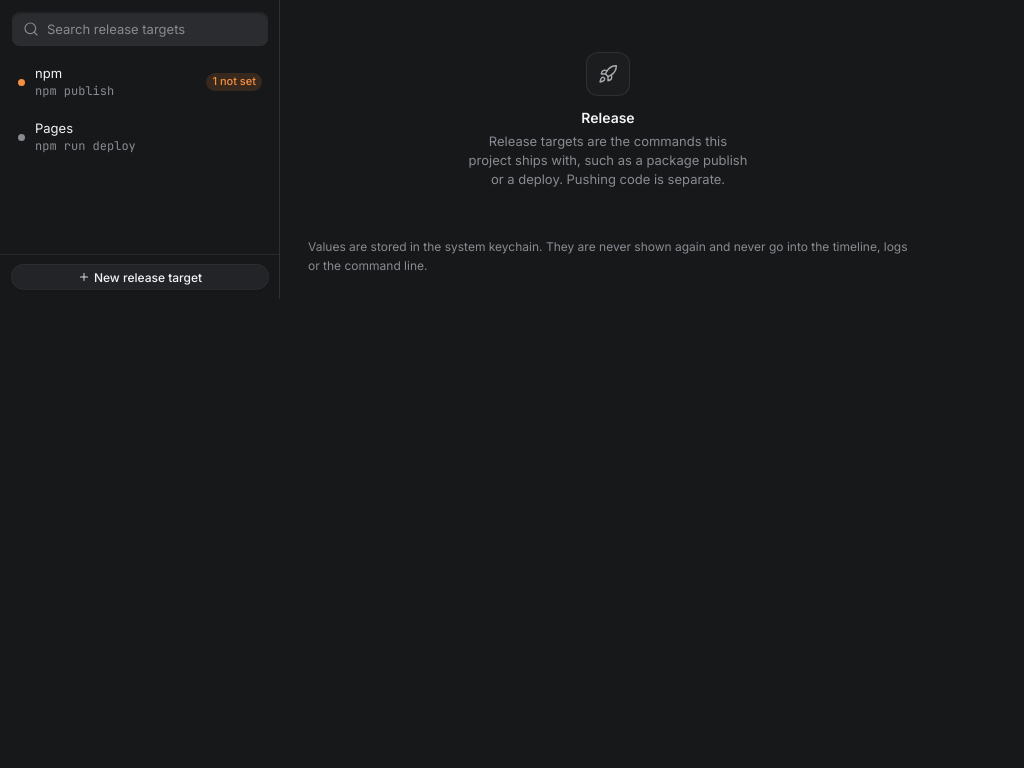
Scenario: 凭据录入 / 替换 / 移除 › 删除发布目标：同样先确认（首焦取消），确认后离开列表
What coordinates should you click on to do the following:
click the option "Pages npm run deploy"
I would click on:
 (54, 128)
Its box is left=8, top=110, right=272, bottom=164.
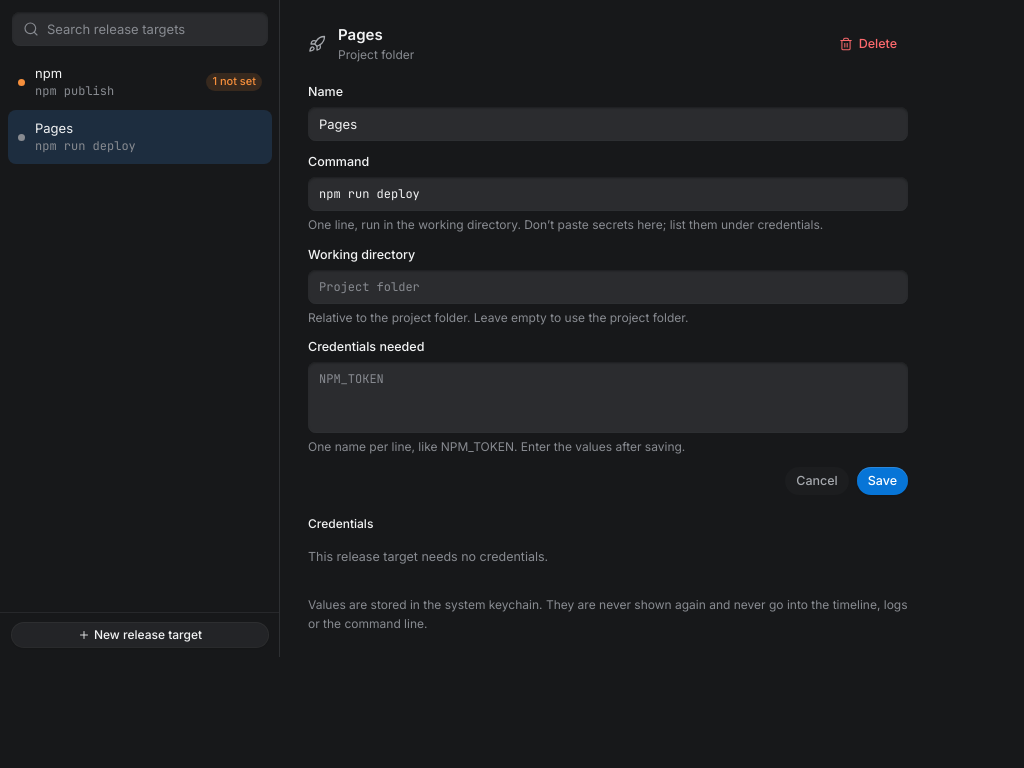
What coordinates should you click on to do the following:
click the button "Delete"
I would click on:
 (868, 44)
Its box is left=828, top=30, right=908, bottom=58.
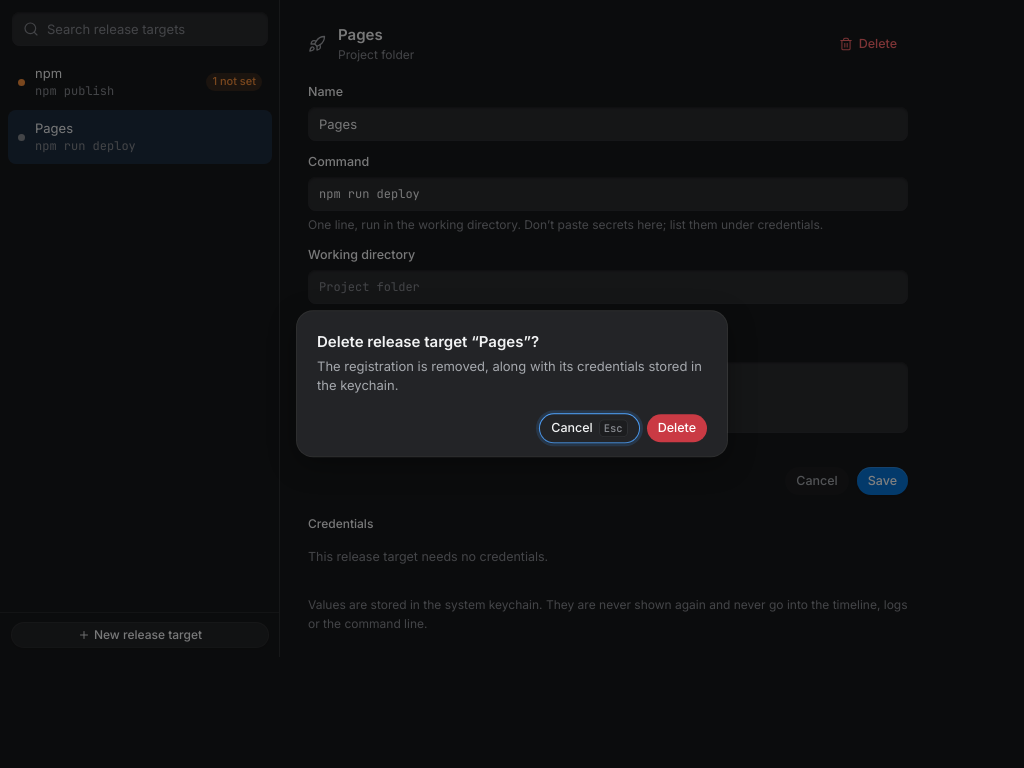
What coordinates should you click on to do the following:
click the button "Delete"
I would click on:
 (677, 429)
Its box is left=647, top=415, right=707, bottom=443.
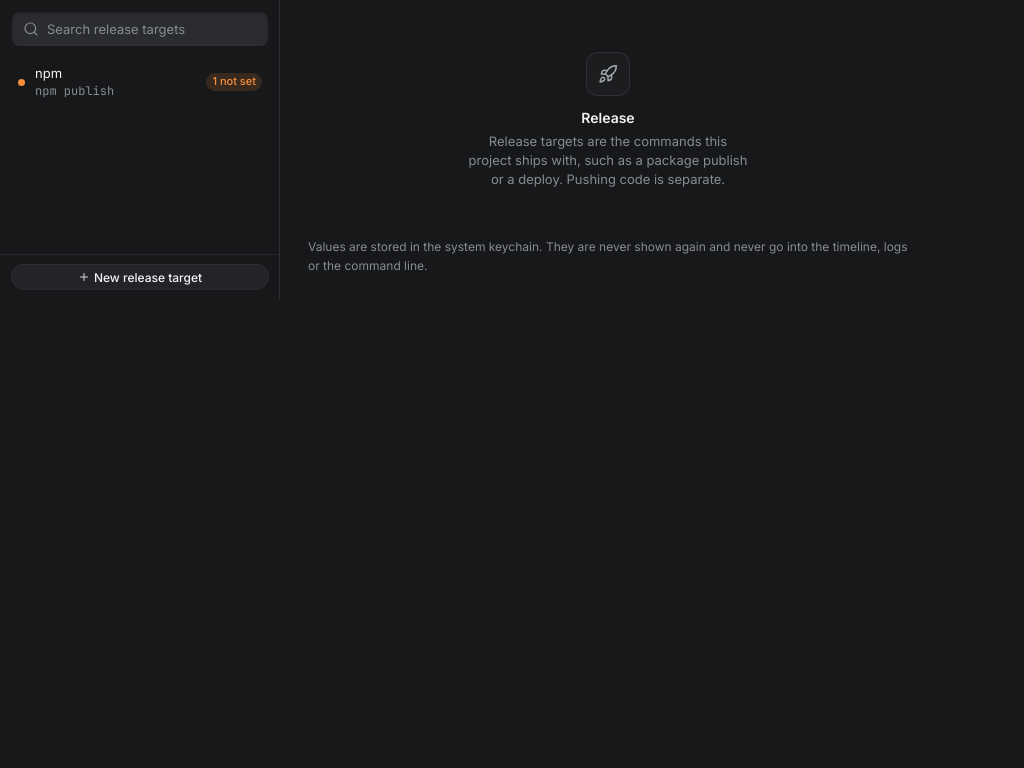
Now the number of options is 1, box left=8, top=55, right=272, bottom=109
